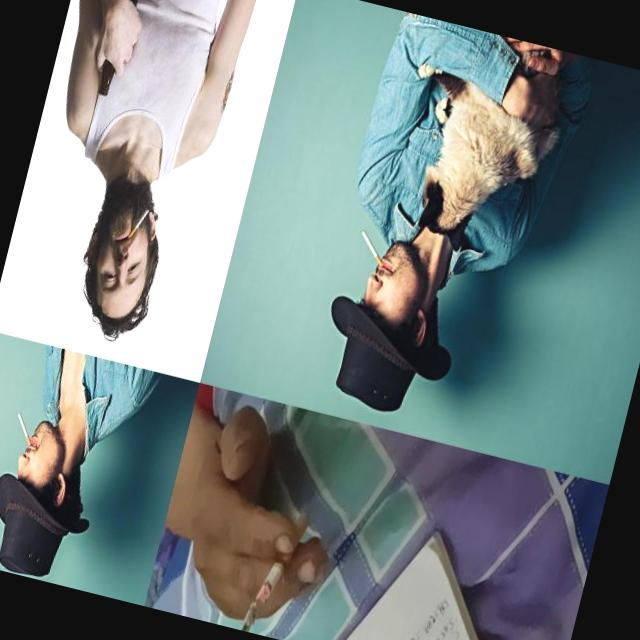cigarette: (238, 501, 312, 640), (352, 228, 390, 268), (8, 409, 40, 452), (126, 202, 150, 243)
